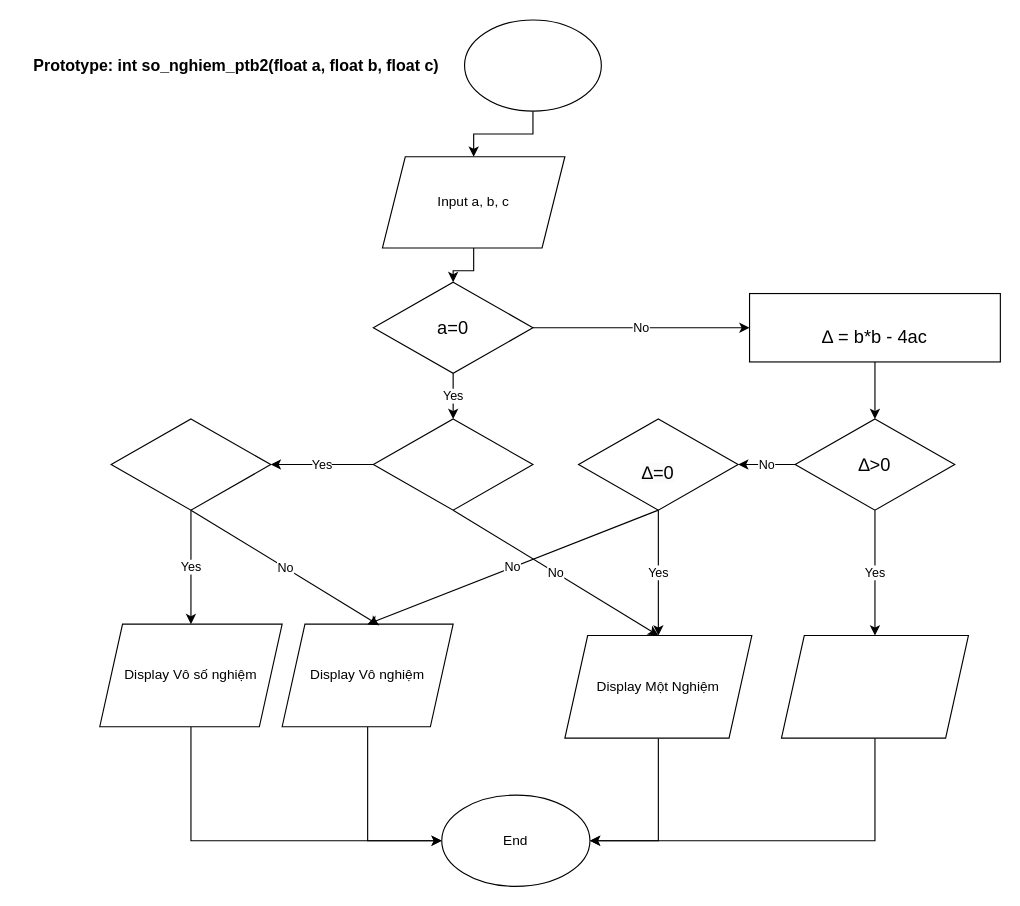
Image size: 1020x906. Some labels were removed from this diagram. The box of each missing label's shape, as (x1, y1, x2, y2) in pixels:
b=0: (372, 418, 533, 510)
c=0: (110, 418, 271, 510)
Display Hai nghiệm: (780, 634, 968, 738)
Start: (463, 19, 601, 111)
